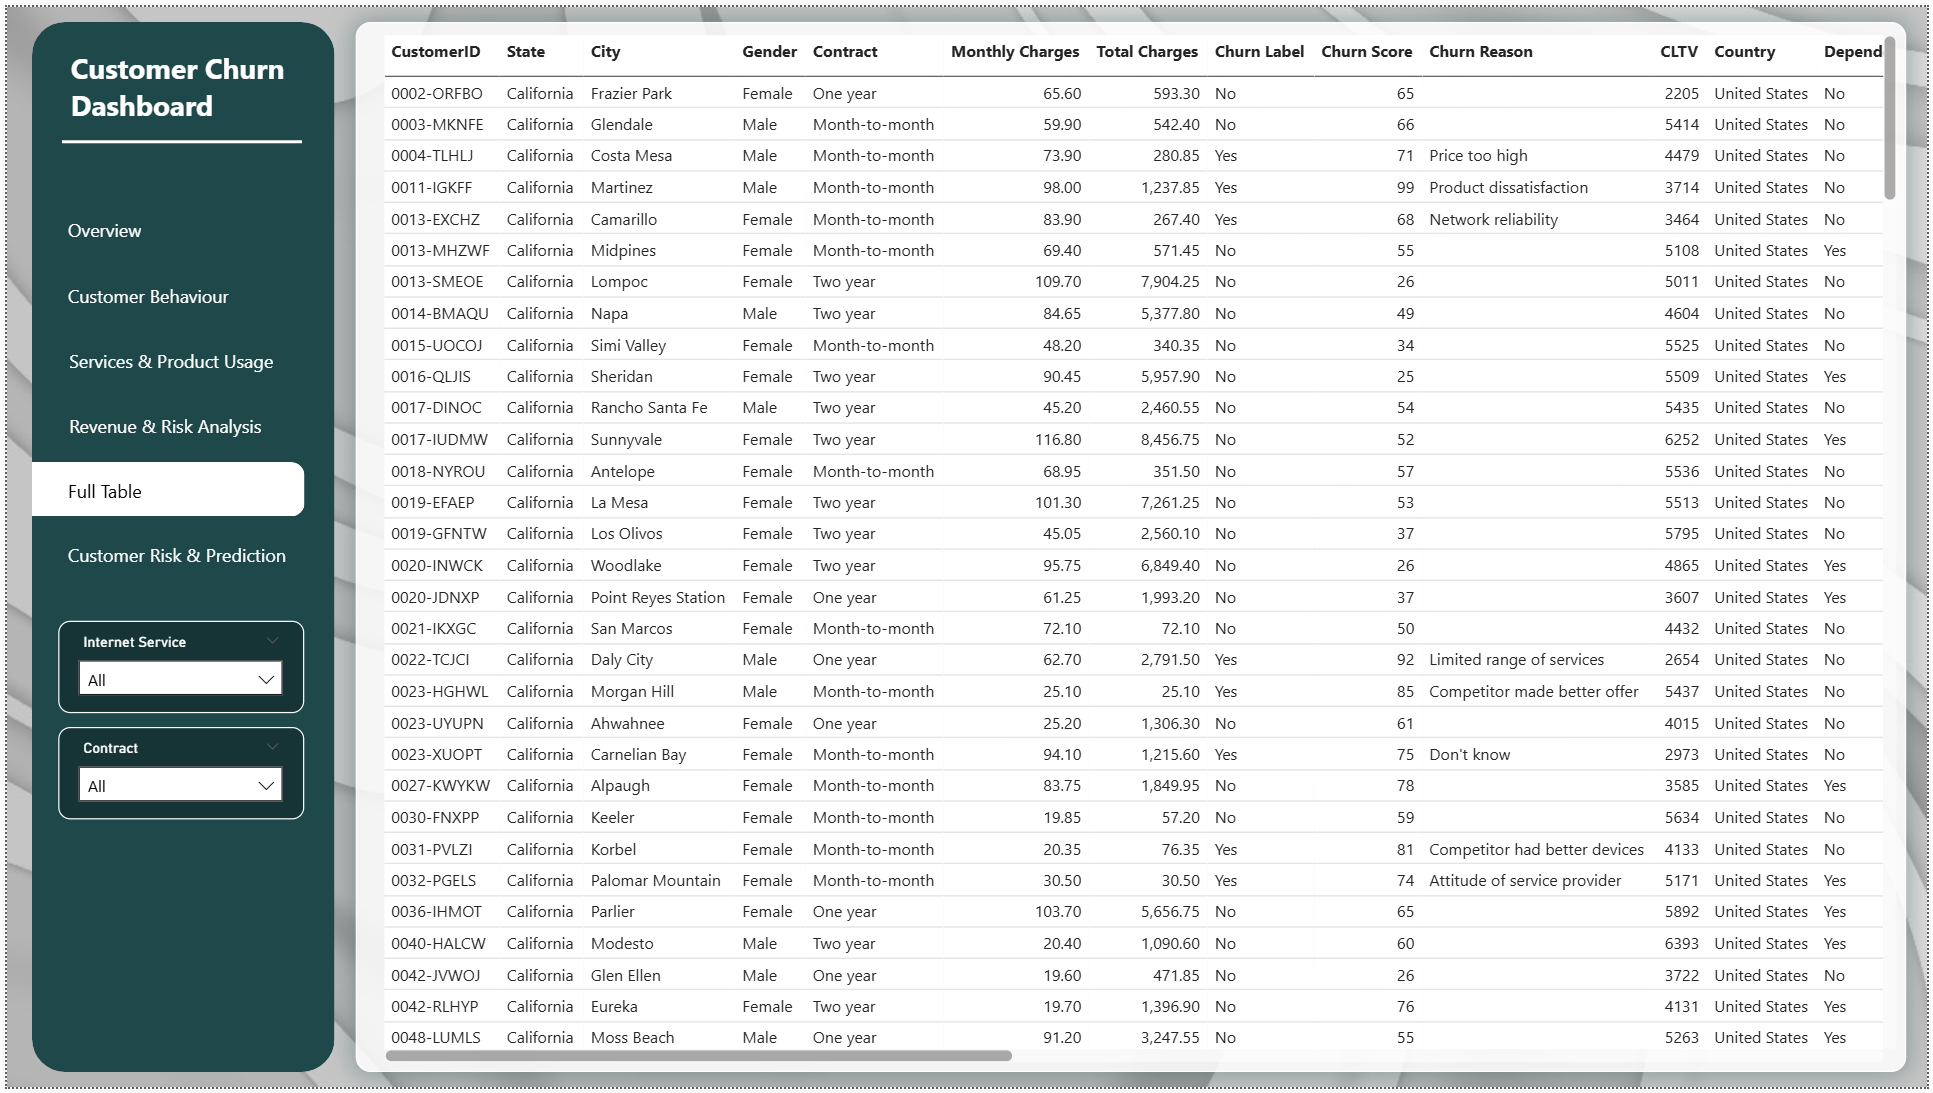

This screenshot's page, from the dashboard's own definition file:
{"tool":"powerbi","page":{"name":"Full Table","canvas":[1280,720],"ordinal":4},"visuals":[{"type":"shape","box":[123.9,10.6,201.8,700],"z":1000},{"type":"textbox","box":[138.1,31,161.1,68.1],"z":2000},{"type":"tableEx","title":"Churn Distribution","fields":{"Values":["Dataset.CustomerID","Dataset.State","Dataset.City","Dataset.Gender","Dataset.Contract","Dataset.Monthly Charges","Dataset.Total Charges","Dataset.Churn Label","Dataset.Churn Score","Dataset.Churn Reason","Dataset.CLTV","Dataset.Country"]},"box":[338.1,10.3,928.6,700],"z":3000}]}

Visuals, with their boxes on the page's 1280x720 design canvas (x1, y1, x2, y2). These are canvas units, not pixel positions in the 1933x1093 screenshot, which may show the page scaled, cropped or inside an application window:
shape: Rect(124, 11, 326, 711)
textbox: Rect(138, 31, 299, 99)
"Churn Distribution" tableEx: Rect(338, 10, 1267, 710)
